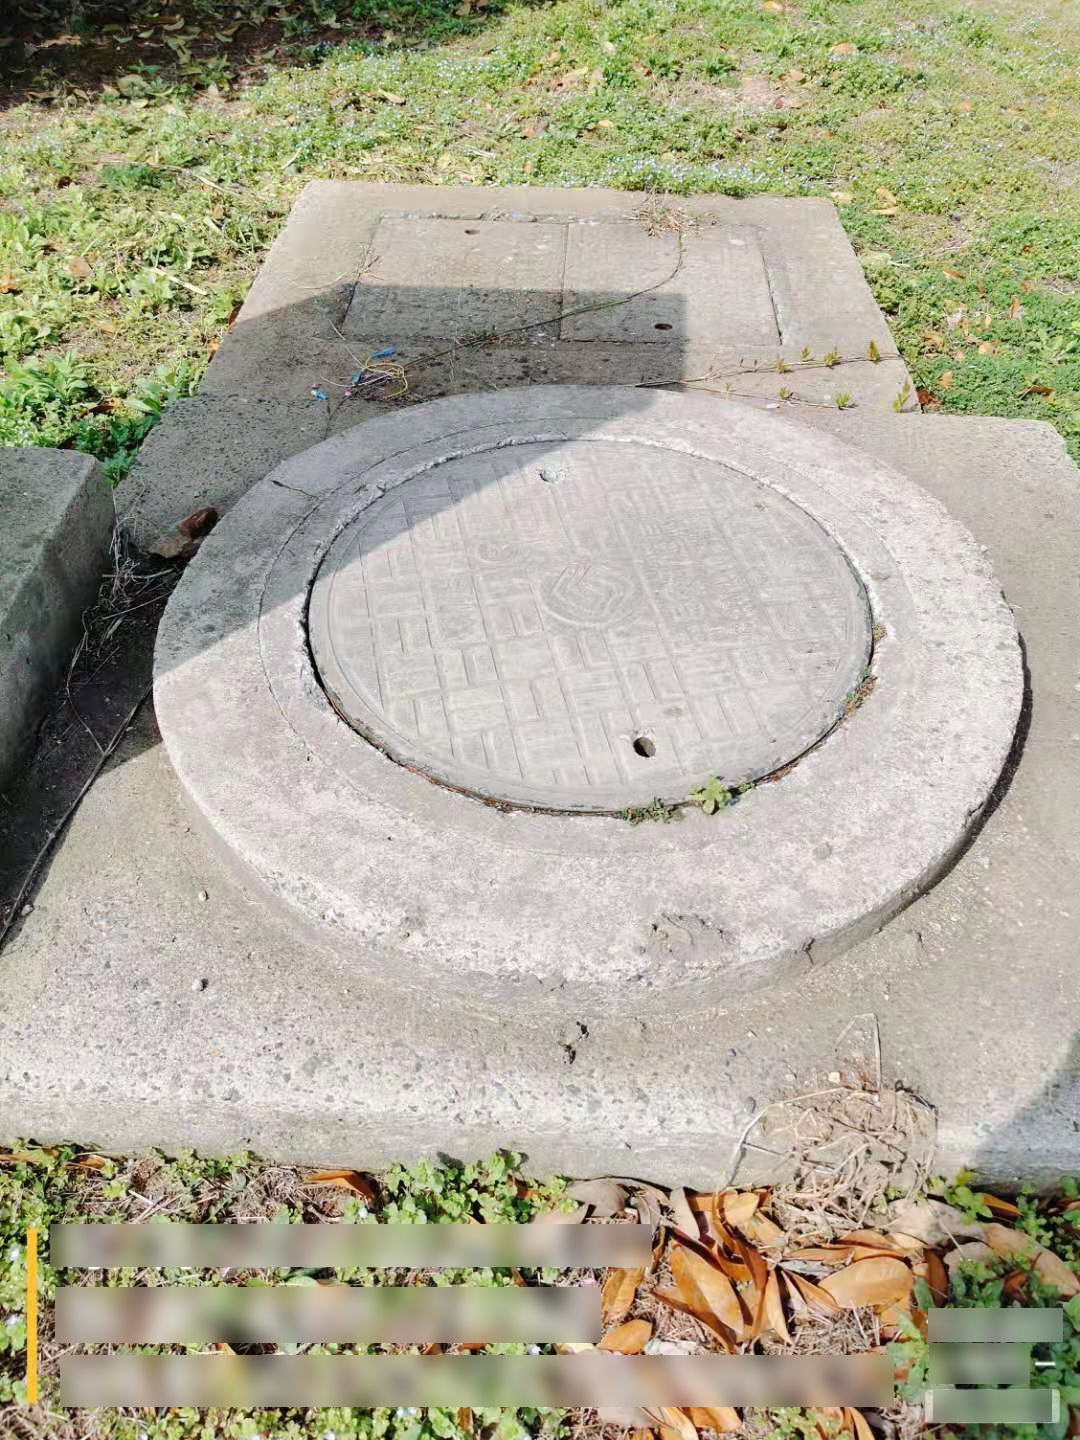good: (259, 420, 913, 838), (334, 206, 796, 351)
